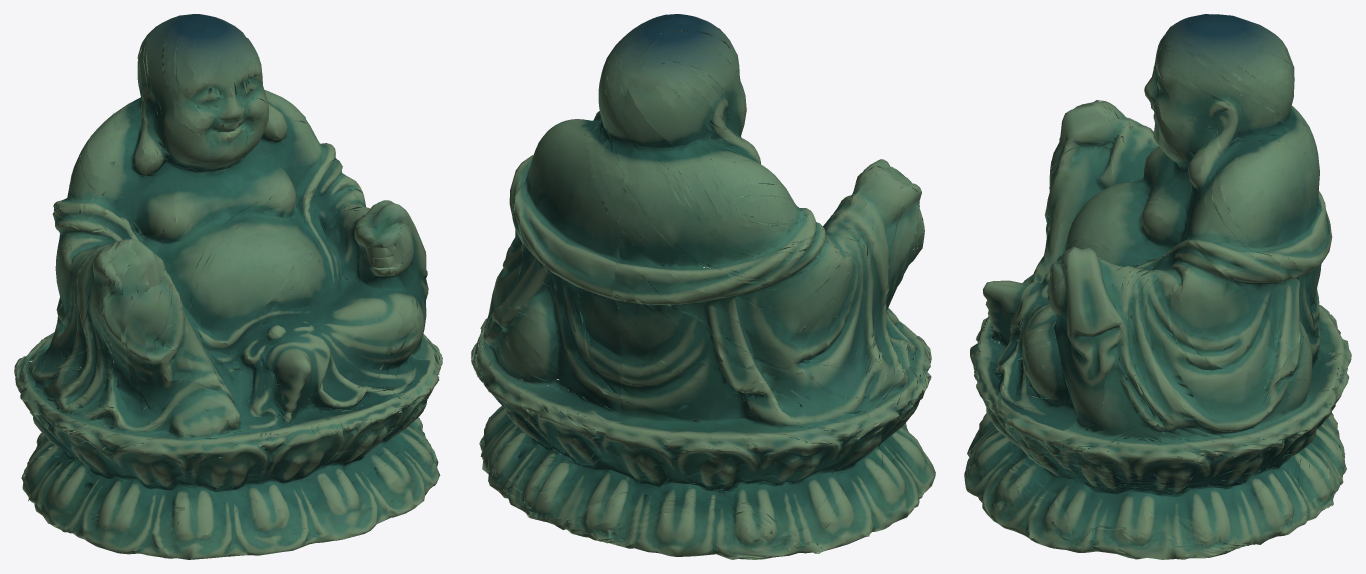
3 views of the same model, side by side, from view 1: azimuth 30°, elevation 25°; view 2: azimuth 150°, elevation 25°; view 3: azimuth 270°, elevation 25° (orthographic). The views are drawn at different scales.
Parts seen in each view (by area): view 1: statue-056; view 2: statue-056; view 3: statue-056.
Boxes of the visible parts, x1,y1,x2,y2 form: statue-056: [14, 14, 442, 559]; statue-056: [471, 14, 935, 559]; statue-056: [964, 14, 1351, 559].
Bounding box in the file's own units: 0.9091 × 1 × 0.7846.
1 material, 1 textured.
